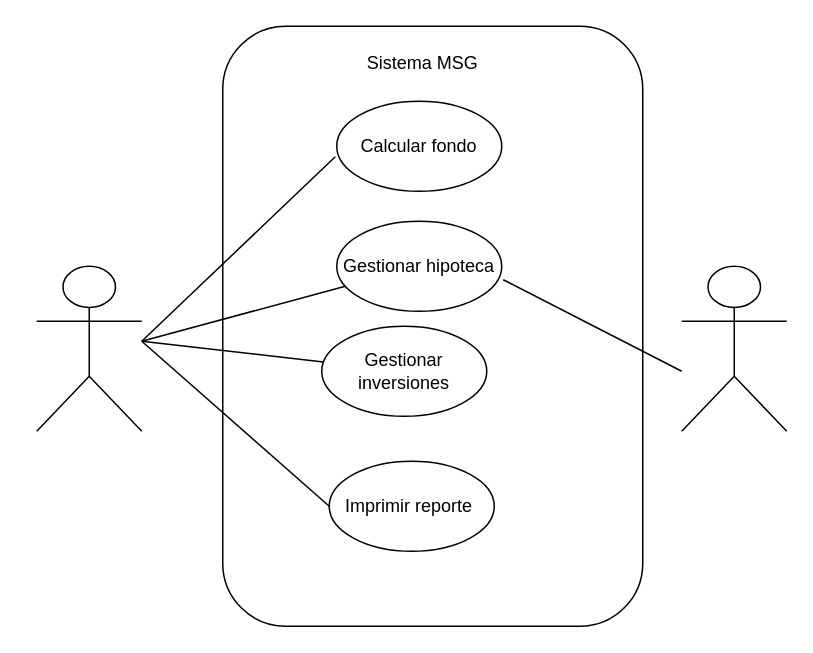
The diagram is 813 pixels wide and 653 high, and some of its shapes have lost their labels. Each missing label, with the centre of its shape:
Deudores: the point at 733,348
Empleado MSG: the point at 88,348
